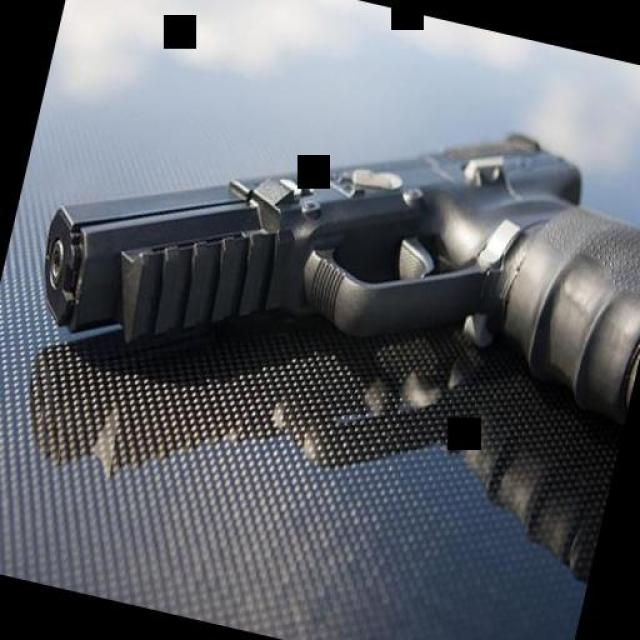gun: (9, 22, 640, 532)
